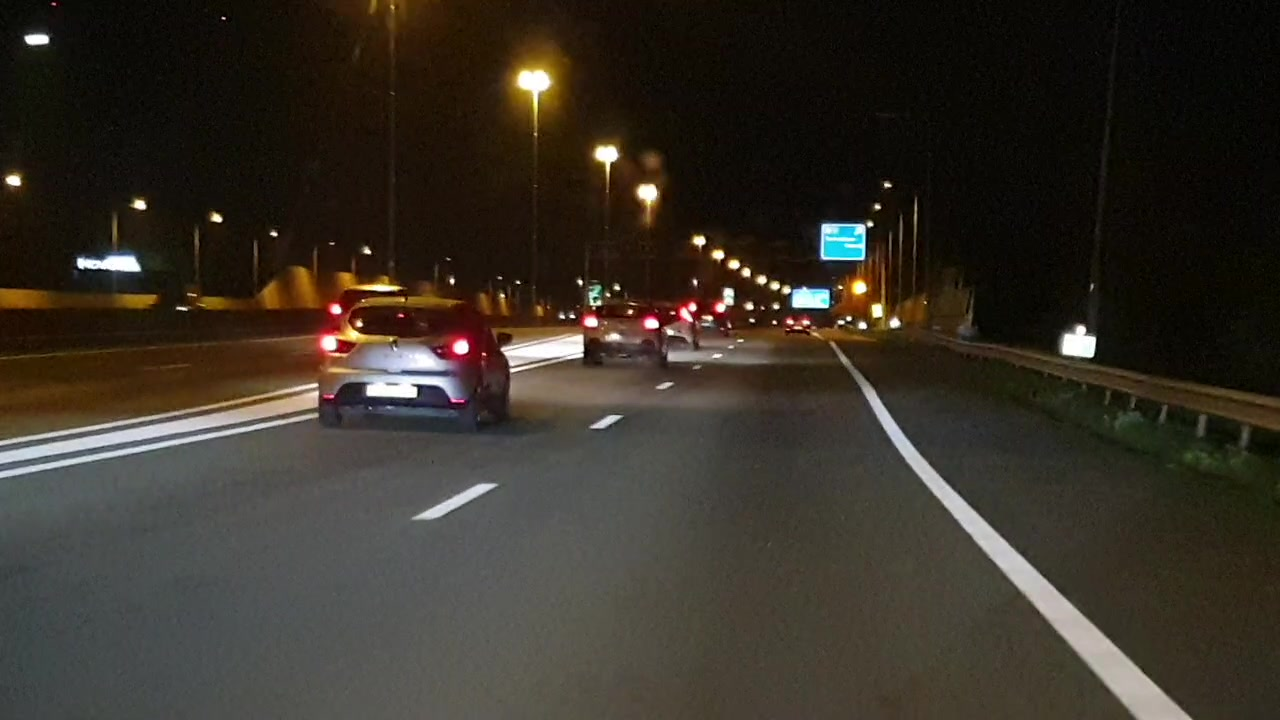car: (313, 288, 510, 433), (569, 297, 671, 372)
